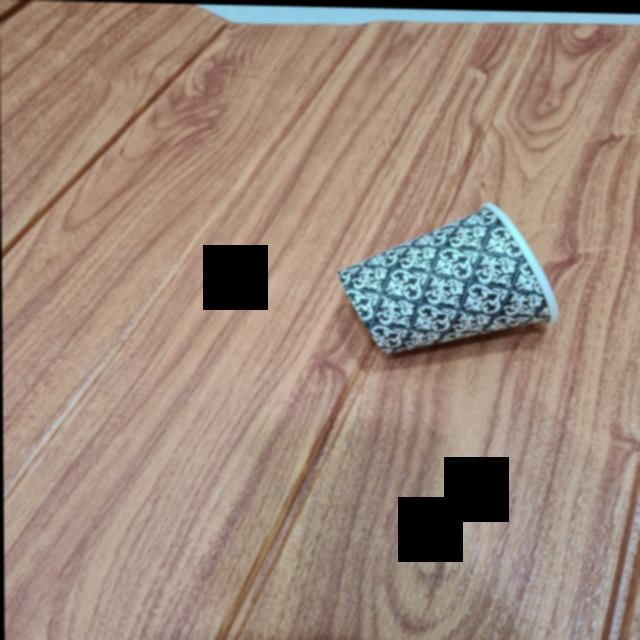cups: (335, 201, 561, 354)
